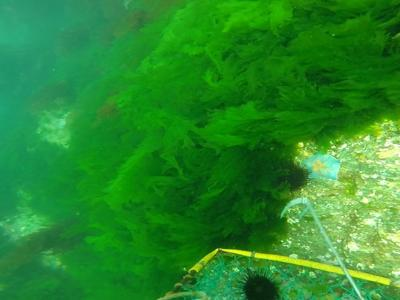urchin: (241, 271, 277, 294), (285, 164, 307, 187)
